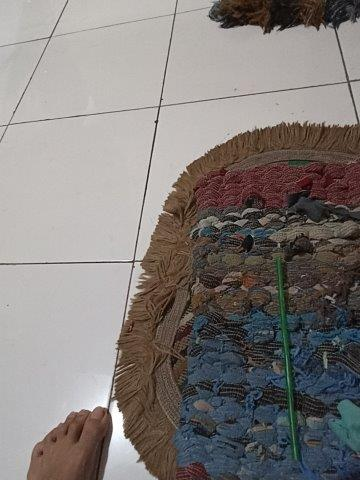sedotan: (277, 261, 300, 461)
